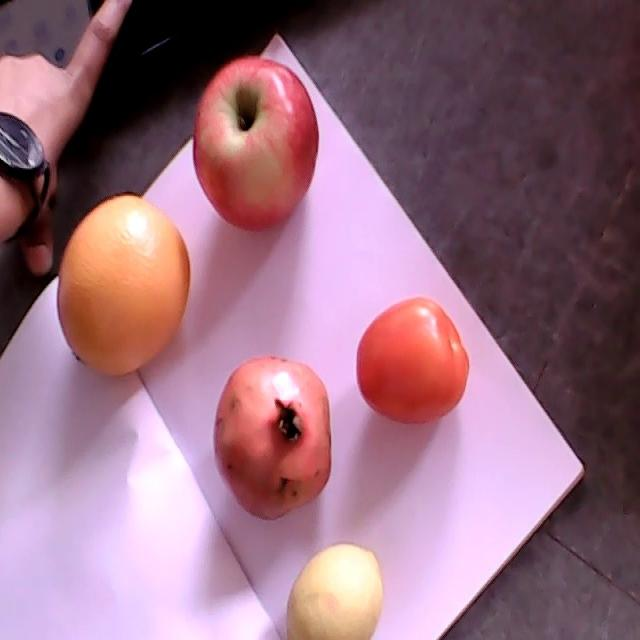apple: (193, 56, 319, 232)
lemon: (287, 543, 383, 638)
orange: (58, 195, 189, 375)
pomegranate: (214, 355, 332, 521)
tomato: (356, 297, 469, 423)
